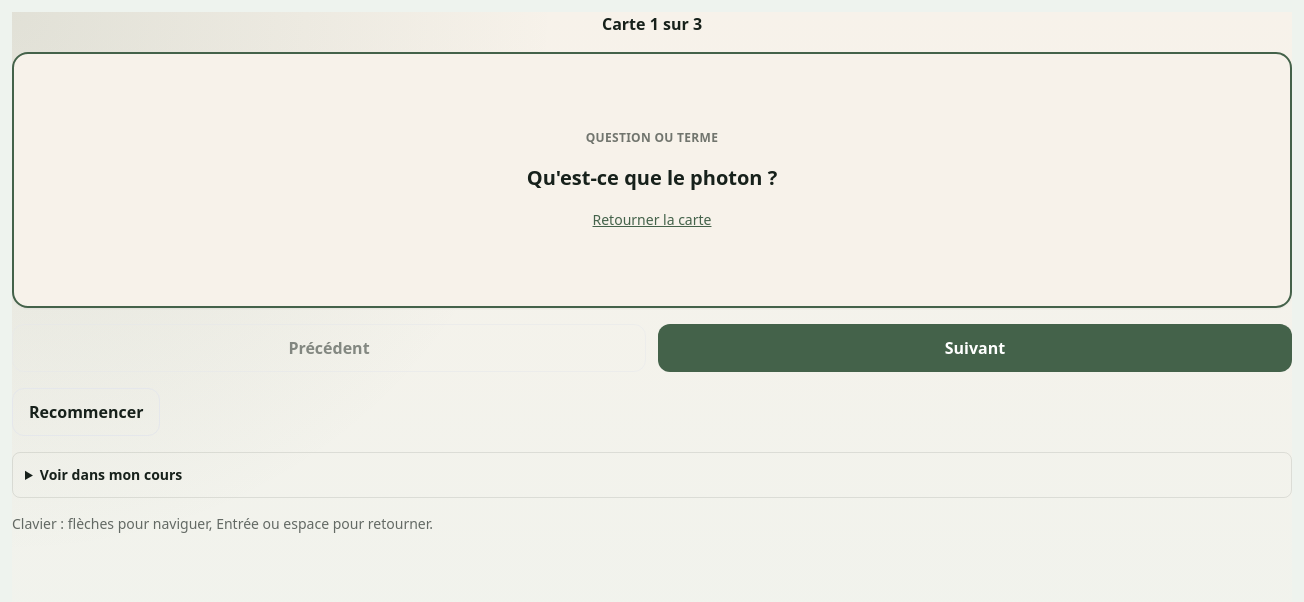
Test: FlashcardDeck › affiche les références du cours
# Ouvrir le détails
Click the heading "Voir dans mon cours" at (111, 474), box [40,465,182,484]
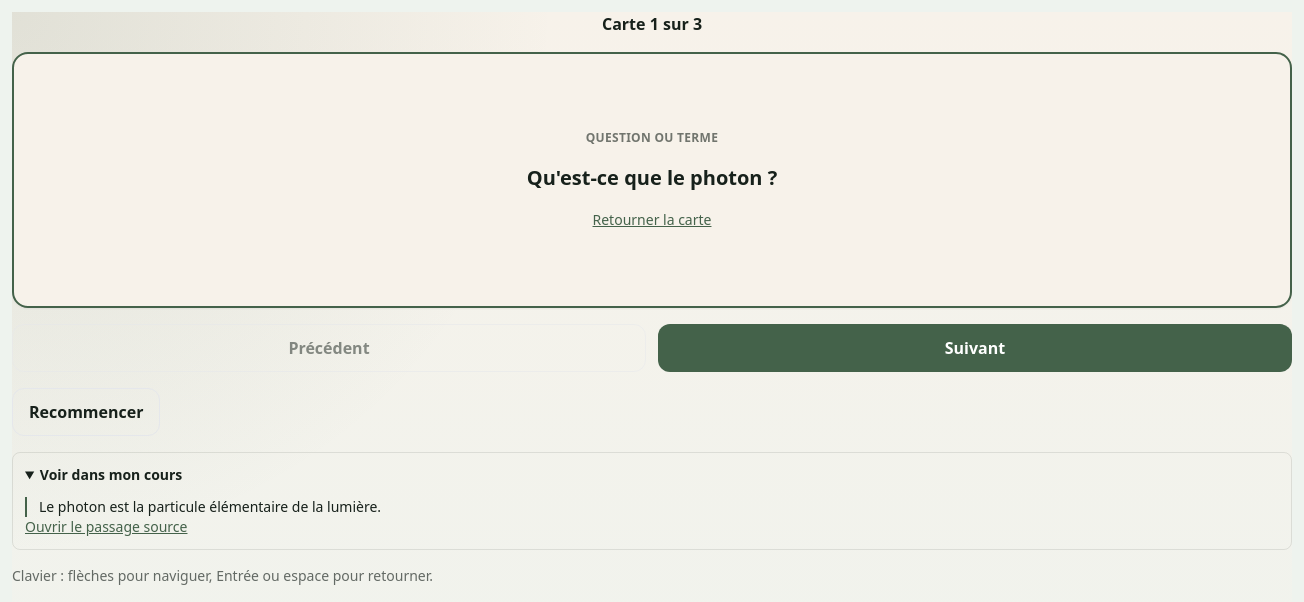
Now the text "Le photon est la particule élémentaire de la lumière." is shown, box [25,497,1279,517]
